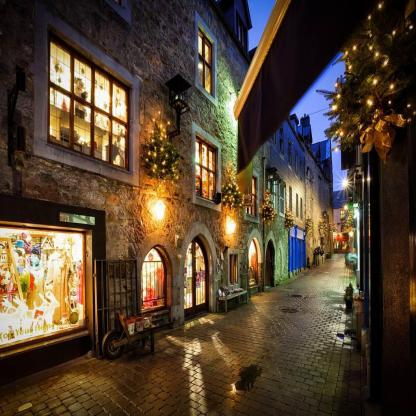other: (147, 186, 170, 229), (337, 172, 355, 198), (224, 214, 240, 237)
